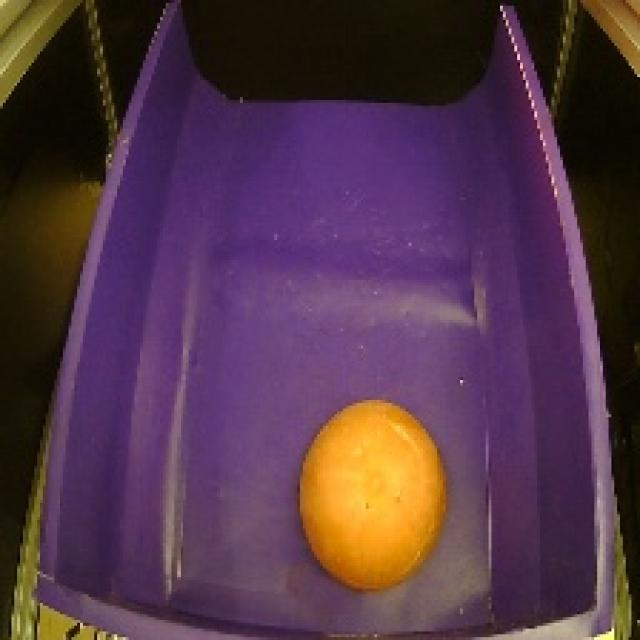carrots: (292, 385, 454, 597)
